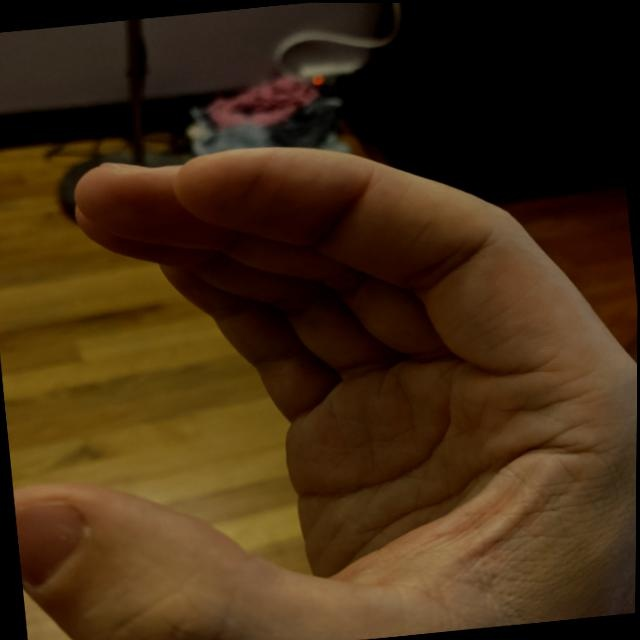C: (0, 91, 639, 639)
